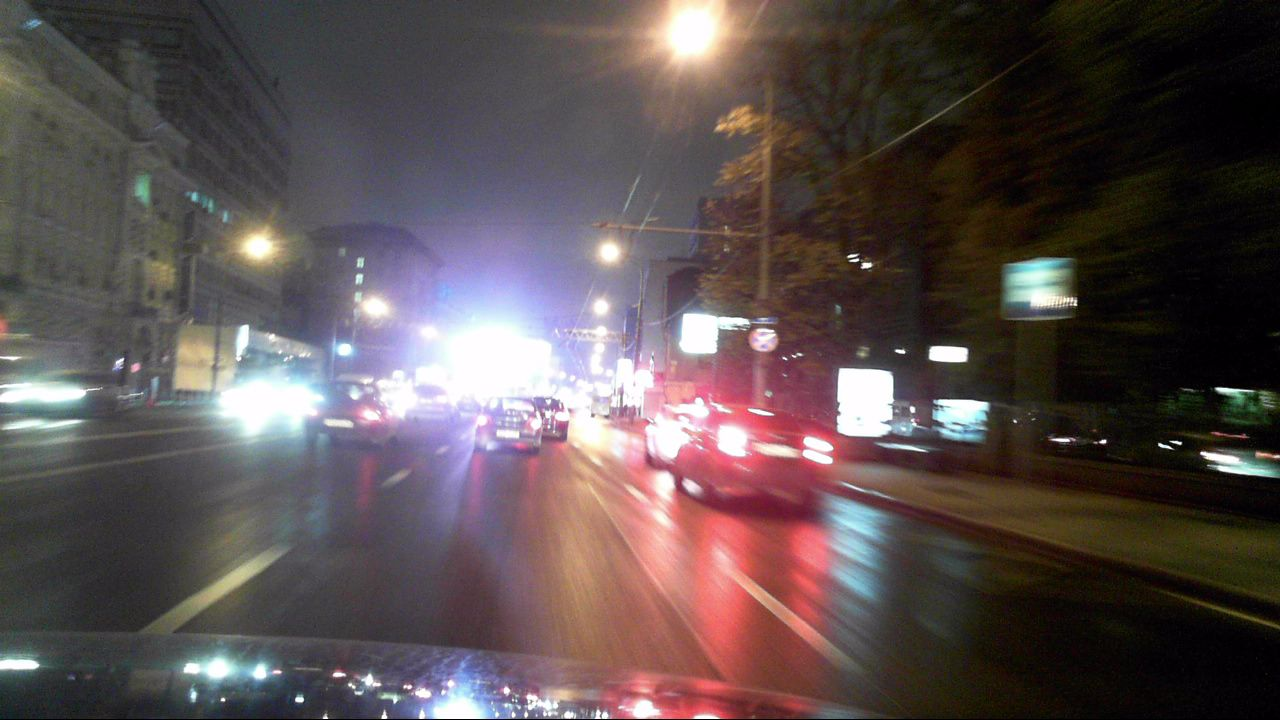No Parking: (748, 326, 779, 353)
